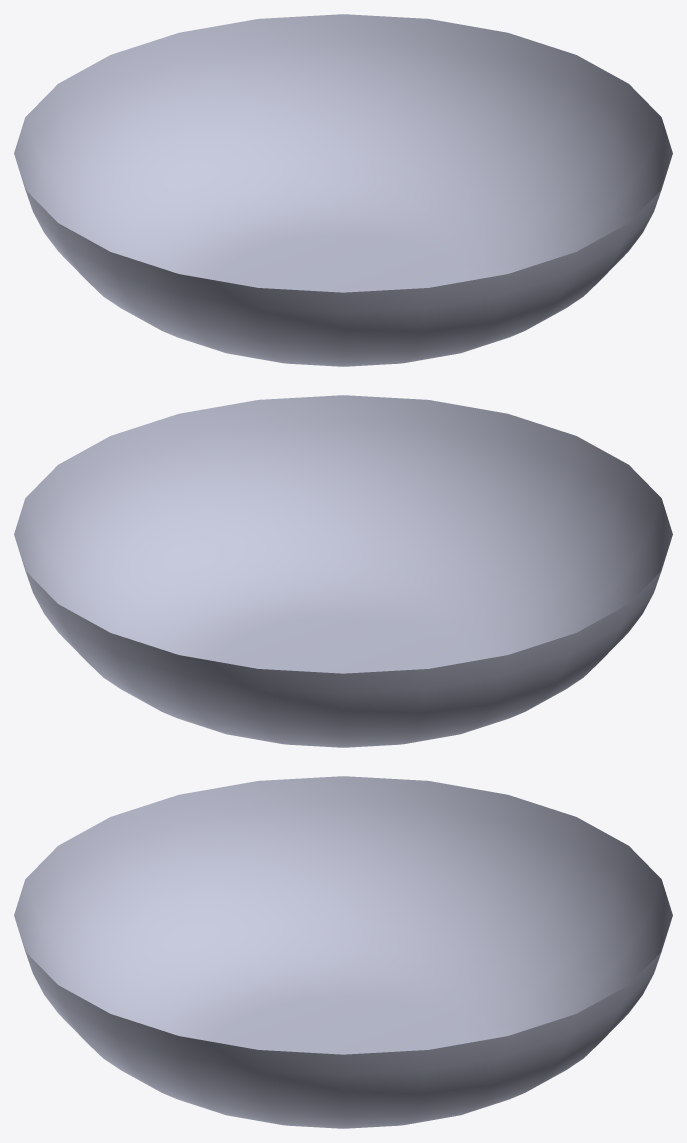
The model's file is bowl1.dae.
The picture shows the model from 3 angles, top to bottom: view 1: azimuth 30°, elevation 25°; view 2: azimuth 150°, elevation 25°; view 3: azimuth 270°, elevation 25°; orthographic projection.
Parts seen in each view (by area): view 1: bowl; view 2: bowl; view 3: bowl.
Part boxes in pixels (x1,y1,x2,y2): bowl: [14, 14, 672, 366]; bowl: [14, 395, 672, 747]; bowl: [14, 776, 672, 1128].
Size of the model in its own units: 0.3526 by 0.3526 by 0.0811.
